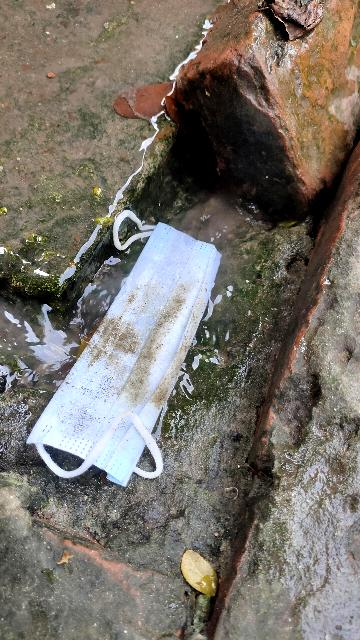mask: (26, 194, 228, 503)
